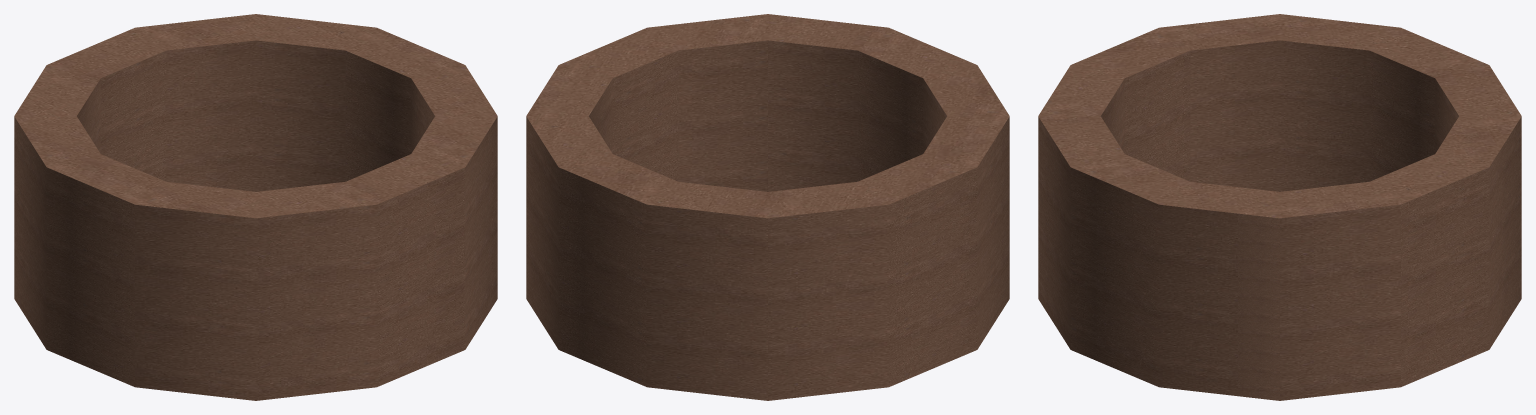
The model's file is adhesive_tape.obj.
3 renders of one model, left to right at view 1: azimuth 30°, elevation 25°; view 2: azimuth 150°, elevation 25°; view 3: azimuth 270°, elevation 25°, orthographic.
Visible parts, largest first — view 1: adhesive_tape; view 2: adhesive_tape; view 3: adhesive_tape.
Part boxes in pixels (x1,y1,x2,y2): adhesive_tape: (14, 14, 497, 400); adhesive_tape: (526, 14, 1009, 400); adhesive_tape: (1038, 14, 1521, 400).
Size of the model in its own units: 0.06 by 0.025 by 0.06.
2 materials, 2 textured.
